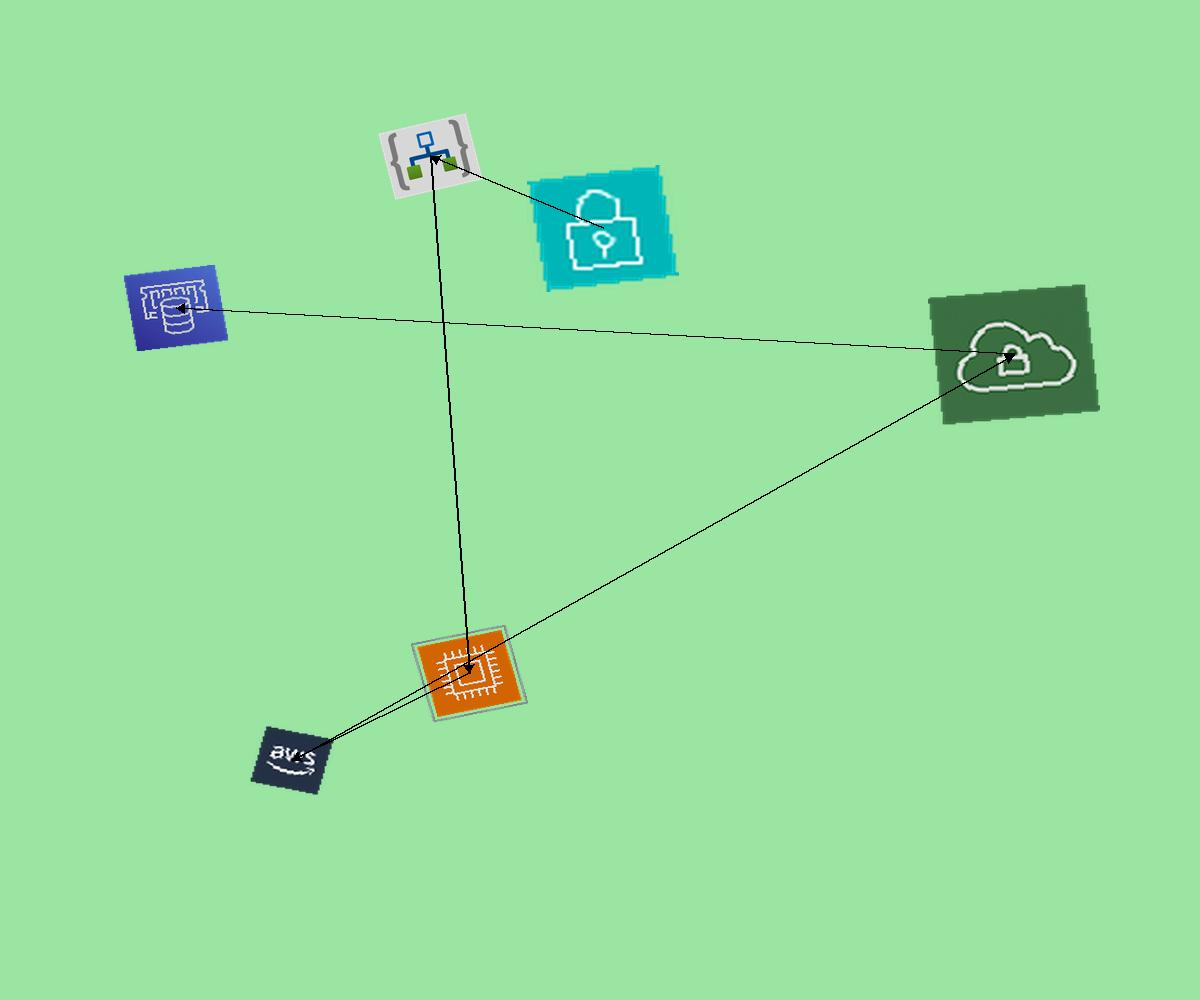AWS-Category_Compute: (410, 624, 529, 723)
AWS-Cloud-logo: (249, 725, 335, 796)
AWS-ElastiCache: (123, 264, 229, 352)
AWS-Private-subnet: (527, 165, 679, 292)
AWS-Private_vpc: (928, 283, 1100, 426)
Azure_integration-204-Logic-Apps: (378, 113, 483, 200)
